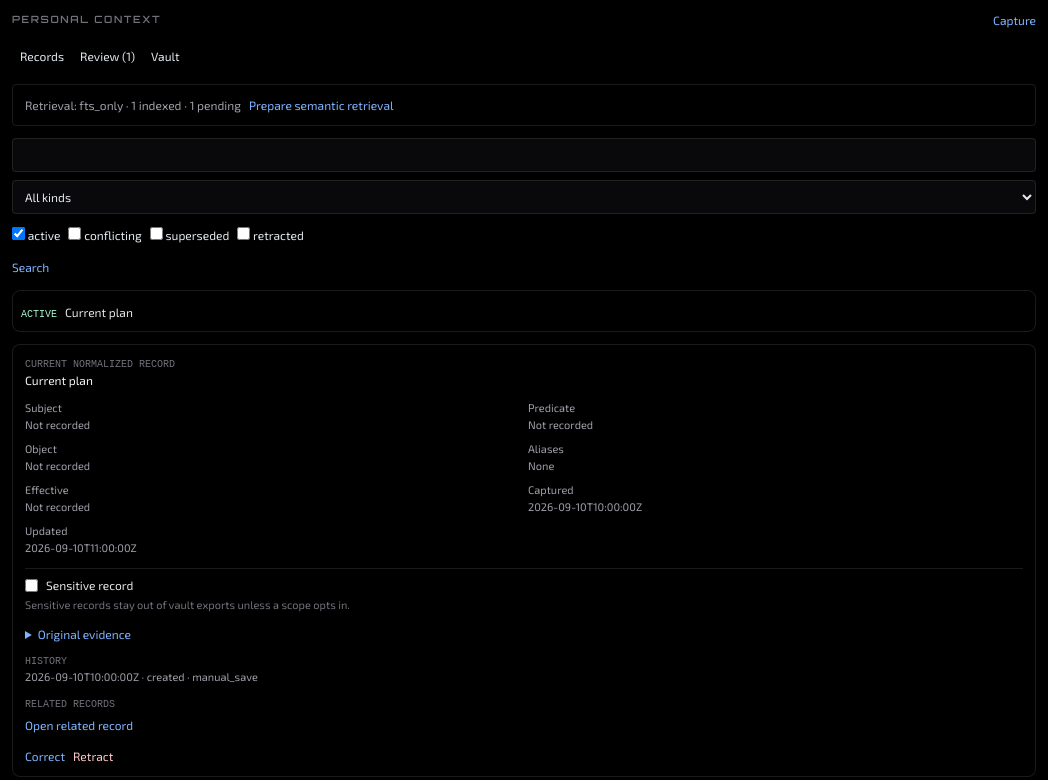
Test: CortexContext › summarizes merge_entities proposals without text
The image size is (1048, 780).
Click the tab "Review (1)".
click(108, 56)  # box [72,40,143,72]
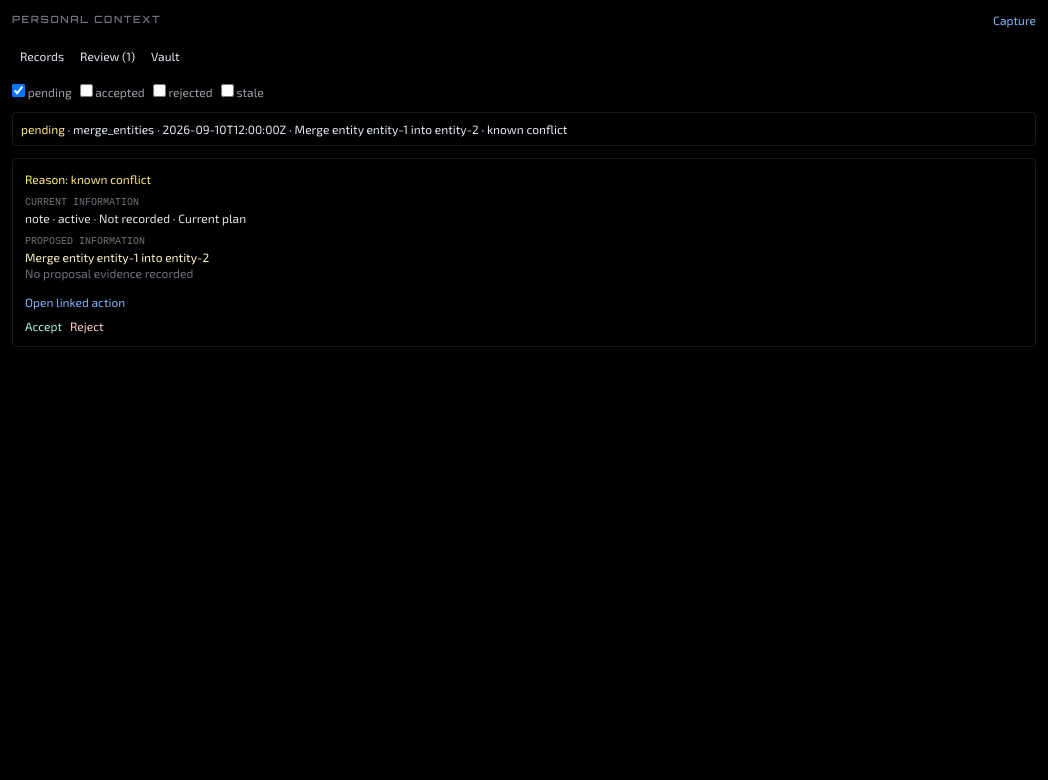
Now the button named "Merge entity entity-1 into entity-2" is shown, box [12,112,1036,146]
Now the text "Merge entity entity-1 into entity-2" is shown, box [25,250,209,264]
Now the text "No proposal evidence recorded" is shown, box [25,266,193,280]
